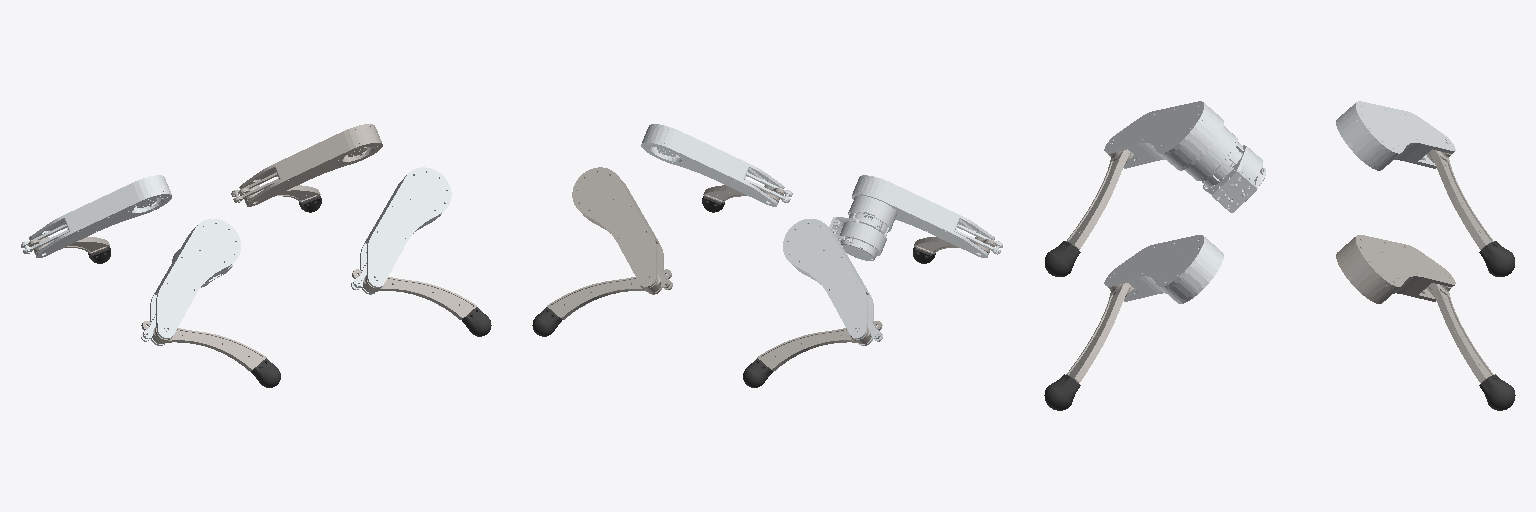
URDF robot description (UIKA):
<robot name="UIKA">
  <link name="base">
    <inertial>
      <origin xyz="0.0993589953258177 -0.000347868138743462 -0.0602742254852854" rpy="0 0 0" />
      <mass value="6.09961854" />
      <inertia ixx="0.02511856" ixy="0.00009160" ixz="-0.00692101" iyy="0.07600646" iyz="-0.00001621" izz="0.08133534 " />
    </inertial>
    <visual>
      <origin xyz="0 0 0" rpy="0 0 0" />
      <geometry>
        <mesh filename="../meshes/base.STL" />
      </geometry>
      <material name="">
        <color rgba="0.898039215686275 0.917647058823529 0.929411764705882 1" />
      </material>
    </visual>
    <collision>
      <origin xyz="0 0 0" rpy="0 0 0" />
      <geometry>
        <mesh filename="../meshes/base.STL" />
      </geometry>
    </collision>
  </link>
  <link name="FL_hip">
    <inertial>
      <origin xyz="0.0415030017853425 0.00817193653082768 0.00860885998023001" rpy="0 0 0" />
      <mass value="0.93308959" />
      <inertia ixx="0.00115759" ixy="-0.00005099" ixz="-0.00006730" iyy="0.00110208" iyz="-0.00014553" izz="0.00110642" />
    </inertial>
    <visual>
      <origin xyz="0 0 0" rpy="0 0 0" />
      <geometry>
        <mesh filename="../meshes/FL_hip.STL" />
      </geometry>
      <material name="">
        <color rgba="0.898039215686275 0.917647058823529 0.929411764705882 1" />
      </material>
    </visual>
    <collision>
      <origin xyz="0 0 0" rpy="0 0 0" />
      <geometry>
        <mesh filename="../meshes/FL_hip.STL" />
      </geometry>
    </collision>
  </link>
  <joint name="FL_hip_joint" type="revolute">
    <origin xyz="0.153000439855044 0.0600003842452415 -0.0600006101205791" rpy="0 0 0" />
    <parent link="base" />
    <child link="FL_hip" />
    <axis xyz="1 0 0" />
    <limit lower="-1.5" upper="0" effort="6" velocity="28.80" />
  </joint>
  <link name="FL_thigh">
    <inertial>
      <origin xyz="-0.0535775244580455 0.0350832915184582 -0.0163587879417473" rpy="0 0 0" />
      <mass value="0.47644935" />
      <inertia ixx="0.00108325" ixy="0.00075484" ixz="-0.00076870" iyy="0.00222936" iyz="0.00047262" izz="0.00221100" />
    </inertial>
    <visual>
      <origin xyz="0 0 0" rpy="0 0 0" />
      <geometry>
        <mesh filename="../meshes/FL_thigh.STL" />
      </geometry>
      <material name="">
        <color rgba="0.776470588235294 0.756862745098039 0.737254901960784 1" />
      </material>
    </visual>
    <collision>
      <origin xyz="0 0 0" rpy="0 0 0" />
      <geometry>
        <mesh filename="../meshes/FL_thigh.STL" />
      </geometry>
    </collision>
  </link>
  <joint name="FL_thigh_joint" type="revolute">
    <origin xyz="0.0560002942624635 0.0483946520428511 0.0470555828957988" rpy="0 0 0" />
    <parent link="FL_hip" />
    <child link="FL_thigh" />
    <axis xyz="0 0.716968137917879 0.697105938298167" />
    <limit lower="-0.785" upper="0.785" effort="6" velocity="28.80" />
  </joint>
  <link name="FL_calf">
    <inertial>
      <origin xyz="0.0700291670932001 -0.015965855611679 -0.00222776798959823" rpy="0 0 0" />
      <mass value="0.14745425" />
      <inertia ixx="0.00002268" ixy="0.00004129" ixz="0.00004247" iyy="0.00073677" iyz="0.00000895" izz="0.00073626" />
    </inertial>
    <visual>
      <origin xyz="0 0 0" rpy="0 0 0" />
      <geometry>
        <mesh filename="../meshes/FL_calf.STL" />
      </geometry>
      <material name="">
        <color rgba="0.776470588235294 0.756862745098039 0.737254901960784 1" />
      </material>
    </visual>
    <collision>
      <origin xyz="0 0 0" rpy="0 0 0" />
      <geometry>
        <mesh filename="../meshes/FL_calf.STL" />
      </geometry>
    </collision>
  </link>
  <joint name="FL_calf_joint" type="revolute">
    <origin xyz="-0.152475747348646 0.109582492974347 -0.07397319848129" rpy="0 0 0" />
    <parent link="FL_thigh" />
    <child link="FL_calf" />
    <axis xyz="0 0.716968137917877 0.69710593829817" />
    <limit lower="0.1" upper="1.11" effort="11.2" velocity="15.43" />
  </joint>
  <link name="FL_foot">
    <inertial>
      <origin xyz="-0.0105383510676763 -0.00443303932993289 0.00455926040185234" rpy="0 0 0" />
      <mass value="0.04697856" />
      <inertia ixx="0.00000818" ixy="0" ixz="0" iyy="0.00000918" iyz="0" izz="0.00000915" />
    </inertial>
    <visual>
      <origin xyz="0 0 0" rpy="0 0 0" />
      <geometry>
        <mesh filename="../meshes/FL_foot.STL" />
      </geometry>
      <material name="">
        <color rgba="0.298039215686275 0.298039215686275 0.298039215686275 1" />
      </material>
    </visual>
    <collision>
      <origin xyz="0 0 0" rpy="0 0 0" />
      <geometry>
        <mesh filename="../meshes/FL_foot.STL" />
      </geometry>
    </collision>
  </link>
  <joint name="FL_foot_joint" type="fixed">
    <origin xyz="0.211725899509592 -0.00252783551179853 -0.0167659233263265" rpy="0 0 0" />
    <parent link="FL_calf" />
    <child link="FL_foot" />
    <axis xyz="0 0 0" />
  </joint>
  <link name="FR_hip">
    <inertial>
      <origin xyz="0.0416078227711511 -0.0104146438294053 0.0101964785626593" rpy="0 0 0" />
      <mass value="0.93308959" />
      <inertia ixx="0.00114451" ixy="0.00003806" ixz="-0.00003484" iyy="0.00106757" iyz="0.00013340" izz="0.00112221" />
    </inertial>
    <visual>
      <origin xyz="0 0 0" rpy="0 0 0" />
      <geometry>
        <mesh filename="../meshes/FR_hip.STL" />
      </geometry>
      <material name="">
        <color rgba="0.898039215686275 0.917647058823529 0.929411764705882 1" />
      </material>
    </visual>
    <collision>
      <origin xyz="0 0 0" rpy="0 0 0" />
      <geometry>
        <mesh filename="../meshes/FR_hip.STL" />
      </geometry>
    </collision>
  </link>
  <joint name="FR_hip_joint" type="revolute">
    <origin xyz="0.153000425358075 -0.0600004472669823 -0.0600003113075975" rpy="0 0 0" />
    <parent link="base" />
    <child link="FR_hip" />
    <axis xyz="1 0 0" />
    <limit lower="0" upper="1.5" effort="6" velocity="28.80" />
  </joint>
  <link name="FR_thigh">
    <inertial>
      <origin xyz="-0.0547142990756392 -0.0356584537936173 -0.0169064776984609" rpy="0 0 0" />
      <mass value="0.48074554" />
      <inertia ixx="0.00111780" ixy="-0.00079086" ixz="-0.00080310" iyy="0.00231794" iyz="-0.00048974" izz="0.00230119" />
    </inertial>
    <visual>
      <origin xyz="0 0 0" rpy="0 0 0" />
      <geometry>
        <mesh filename="../meshes/FR_thigh.STL" />
      </geometry>
      <material name="">
        <color rgba="0.898039215686275 0.917647058823529 0.929411764705882 1" />
      </material>
    </visual>
    <collision>
      <origin xyz="0 0 0" rpy="0 0 0" />
      <geometry>
        <mesh filename="../meshes/FR_thigh.STL" />
      </geometry>
    </collision>
  </link>
  <joint name="FR_thigh_joint" type="revolute">
    <origin xyz="0.0560001425520644 -0.0483952686957443 0.047054585042635" rpy="0 0 0" />
    <parent link="FR_hip" />
    <child link="FR_thigh" />
    <axis xyz="0 -0.716968137917902 0.697105938298144" />
    <limit lower="-0.785" upper="0.785" effort="6" velocity="28.80" />
  </joint>
  <link name="FR_calf">
    <inertial>
      <origin xyz="0.0700291670951076 0.0159658555227684 -0.0022277679039307" rpy="0 0 0" />
      <mass value="0.14745425" />
      <inertia ixx="0.00002268" ixy="-0.00004129" ixz="-0.00004247" iyy="0.00073677" iyz="-0.00000895" izz="0.00073626" />
    </inertial>
    <visual>
      <origin xyz="0 0 0" rpy="0 0 0" />
      <geometry>
        <mesh filename="../meshes/FR_calf.STL" />
      </geometry>
      <material name="">
        <color rgba="0.776470588235294 0.756862745098039 0.737254901960784 1" />
      </material>
    </visual>
    <collision>
      <origin xyz="0 0 0" rpy="0 0 0" />
      <geometry>
        <mesh filename="../meshes/FR_calf.STL" />
      </geometry>
    </collision>
  </link>
  <joint name="FR_calf_joint" type="revolute">
    <origin xyz="-0.152475581141278 -0.109581813299707 -0.0739724994411187" rpy="0 0 0" />
    <parent link="FR_thigh" />
    <child link="FR_calf" />
    <axis xyz="0 -0.716968137917903 0.697105938298144" />
    <limit lower="-1.11" upper="-0.1" effort="11.2" velocity="15.43" />
  </joint>
  <link name="FR_foot">
    <inertial>
      <origin xyz="-0.0105383478998533 0.0044329513755467 0.00455934568546953" rpy="0 0 0" />
      <mass value="0.04697856" />
      <inertia ixx="0.00000818" ixy="0" ixz="0" iyy="0.00000918" iyz="0" izz="0.00000915" />
    </inertial>
    <visual>
      <origin xyz="0 0 0" rpy="0 0 0" />
      <geometry>
        <mesh filename="../meshes/FR_foot.STL" />
      </geometry>
      <material name="">
        <color rgba="0.298039215686275 0.298039215686275 0.298039215686275 1" />
      </material>
    </visual>
    <collision>
      <origin xyz="0 0 0" rpy="0 0 0" />
      <geometry>
        <mesh filename="../meshes/FR_foot.STL" />
      </geometry>
    </collision>
  </link>
  <joint name="FR_foot_joint" type="fixed">
    <origin xyz="0.211725899509592 0.00252783231169756 -0.0167659202148746" rpy="0 0 0" />
    <parent link="FR_calf" />
    <child link="FR_foot" />
    <axis xyz="0 0 0" />
  </joint>
  <link name="RL_hip">
    <inertial>
      <origin xyz="-0.0415758519890377 0.0101366668291682 0.0104818480714982" rpy="0 0 0" />
      <mass value="0.93308959" />
      <inertia ixx="0.00113963" ixy="0.00003148" ixz="0.00002966" iyy="0.00109432" iyz="-0.00013659" izz="0.00109594" />
    </inertial>
    <visual>
      <origin xyz="0 0 0" rpy="0 0 0" />
      <geometry>
        <mesh filename="../meshes/RL_hip.STL" />
      </geometry>
      <material name="">
        <color rgba="0.898039215686275 0.917647058823529 0.929411764705882 1" />
      </material>
    </visual>
    <collision>
      <origin xyz="0 0 0" rpy="0 0 0" />
      <geometry>
        <mesh filename="../meshes/RL_hip.STL" />
      </geometry>
    </collision>
  </link>
  <joint name="RL_hip_joint" type="revolute">
    <origin xyz="-0.152999574641922 0.0600000459667993 -0.0599994570016295" rpy="0 0 0" />
    <parent link="base" />
    <child link="RL_hip" />
    <axis xyz="-1 0 0" />
    <limit lower="0" upper="1.5" effort="6" velocity="28.80" />
  </joint>
  <link name="RL_thigh">
    <inertial>
      <origin xyz="-0.0547144667121707 0.0356782468970246 -0.0168886153666892" rpy="0 0 0" />
      <mass value="0.48074554" />
      <inertia ixx="0.00111780" ixy="0.00079200" ixz="-0.00080199" iyy="0.00231683" iyz="0.00048977" izz="0.00230230" />
    </inertial>
    <visual>
      <origin xyz="0 0 0" rpy="0 0 0" />
      <geometry>
        <mesh filename="../meshes/RL_thigh.STL" />
      </geometry>
      <material name="">
        <color rgba="0.898039215686275 0.917647058823529 0.929411764705882 1" />
      </material>
    </visual>
    <collision>
      <origin xyz="0 0 0" rpy="0 0 0" />
      <geometry>
        <mesh filename="../meshes/RL_thigh.STL" />
      </geometry>
    </collision>
  </link>
  <joint name="RL_thigh_joint" type="revolute">
    <origin xyz="-0.0559996912405691 0.0483949903212994 0.0470544297768458" rpy="0 0 0" />
    <parent link="RL_hip" />
    <child link="RL_thigh" />
    <axis xyz="0 0.716968137917878 0.697105938298169" />
    <limit lower="-0.785" upper="0.785" effort="6" velocity="28.80" />
  </joint>
  <link name="RL_calf">
    <inertial>
      <origin xyz="0.0700291670931948 -0.0159658556116849 -0.00222776798959213" rpy="0 0 0" />
      <mass value="0.14745425" />
      <inertia ixx="0.00002268" ixy="0.00004129" ixz="-0.00004247" iyy="0.00073677" iyz="0.00000895" izz="0.00073626" />
    </inertial>
    <visual>
      <origin xyz="0 0 0" rpy="0 0 0" />
      <geometry>
        <mesh filename="../meshes/RL_calf.STL" />
      </geometry>
      <material name="">
        <color rgba="0.776470588235294 0.756862745098039 0.737254901960784 1" />
      </material>
    </visual>
    <collision>
      <origin xyz="0 0 0" rpy="0 0 0" />
      <geometry>
        <mesh filename="../meshes/RL_calf.STL" />
      </geometry>
    </collision>
  </link>
  <joint name="RL_calf_joint" type="revolute">
    <origin xyz="-0.152475747348643 0.109582492974347 -0.0739731984812923" rpy="0 0 0" />
    <parent link="RL_thigh" />
    <child link="RL_calf" />
    <axis xyz="0 0.716968137917874 0.697105938298173" />
    <limit lower="0.1" upper="1.11" effort="11.2" velocity="15.43" />
  </joint>
  <link name="RL_foot">
    <inertial>
      <origin xyz="-0.0105383510676786 -0.00443303932993727 0.0045592604018532" rpy="0 0 0" />
      <mass value="0.04697856" />
      <inertia ixx="0.00000818" ixy="0" ixz="0" iyy="0.00000918" iyz="0" izz="0.00000915" />
    </inertial>
    <visual>
      <origin xyz="0 0 0" rpy="0 0 0" />
      <geometry>
        <mesh filename="../meshes/RL_foot.STL" />
      </geometry>
      <material name="">
        <color rgba="0.298039215686275 0.298039215686275 0.298039215686275 1" />
      </material>
    </visual>
    <collision>
      <origin xyz="0 0 0" rpy="0 0 0" />
      <geometry>
        <mesh filename="../meshes/RL_foot.STL" />
      </geometry>
    </collision>
  </link>
  <joint name="RL_foot_joint" type="fixed">
    <origin xyz="0.211725899509589 -0.00252783551179986 -0.0167659233263231" rpy="0 0 0" />
    <parent link="RL_calf" />
    <child link="RL_foot" />
    <axis xyz="0 0 0" />
  </joint>
  <link name="RR_hip">
    <inertial>
      <origin xyz="-0.0416445343568521 -0.010769761078396 0.00983207310486511" rpy="0 0 0" />
      <mass value="0.93308959" />
      <inertia ixx="0.00114349" ixy="-0.00003539" ixz="0.00003214" iyy="0.00108600" iyz="0.00013445" izz="0.00110242" />
    </inertial>
    <visual>
      <origin xyz="0 0 0" rpy="0 0 0" />
      <geometry>
        <mesh filename="../meshes/RR_hip.STL" />
      </geometry>
      <material name="">
        <color rgba="0.898039215686275 0.917647058823529 0.929411764705882 1" />
      </material>
    </visual>
    <collision>
      <origin xyz="0 0 0" rpy="0 0 0" />
      <geometry>
        <mesh filename="../meshes/RR_hip.STL" />
      </geometry>
    </collision>
  </link>
  <joint name="RR_hip_joint" type="revolute">
    <origin xyz="-0.152999574641922 -0.0599994732330435 -0.0600001395591401" rpy="0 0 0" />
    <parent link="base" />
    <child link="RR_hip" />
    <axis xyz="-1 0 0" />
    <limit lower="-1.5" upper="0" effort="6" velocity="28.80" />
  </joint>
  <link name="RR_thigh">
    <inertial>
      <origin xyz="-0.0547143122112738 -0.0356584597048889 -0.0169064837781644" rpy="0 0 0" />
      <mass value="0.48074554" />
      <inertia ixx="0.00111780" ixy="-0.00079085" ixz="-0.00080310" iyy="0.00231794" iyz="-0.00048974" izz="0.00230119" />
    </inertial>
    <visual>
      <origin xyz="0 0 0" rpy="0 0 0" />
      <geometry>
        <mesh filename="../meshes/RR_thigh.STL" />
      </geometry>
      <material name="">
        <color rgba="0.898039215686275 0.917647058823529 0.929411764705882 1" />
      </material>
    </visual>
    <collision>
      <origin xyz="0 0 0" rpy="0 0 0" />
      <geometry>
        <mesh filename="../meshes/RR_thigh.STL" />
      </geometry>
    </collision>
  </link>
  <joint name="RR_thigh_joint" type="revolute">
    <origin xyz="-0.0559998574479382 -0.0483962427296829 0.0470544132941808" rpy="0 0 0" />
    <parent link="RR_hip" />
    <child link="RR_thigh" />
    <axis xyz="0 -0.716968137917902 0.697105938298144" />
    <limit lower="-0.785" upper="0.785" effort="6" velocity="28.80" />
  </joint>
  <link name="RR_calf">
    <inertial>
      <origin xyz="0.0700291670951063 0.0159658555227615 -0.0022277679039392" rpy="0 0 0" />
      <mass value="0.14745425" />
      <inertia ixx=" 0.00002268" ixy="-0.00004129" ixz="-0.00004247" iyy="0.00073677" iyz="-0.00000895" izz="0.00073626" />
    </inertial>
    <visual>
      <origin xyz="0 0 0" rpy="0 0 0" />
      <geometry>
        <mesh filename="../meshes/RR_calf.STL" />
      </geometry>
      <material name="">
        <color rgba="0.776470588235294 0.756862745098039 0.737254901960784 1" />
      </material>
    </visual>
    <collision>
      <origin xyz="0 0 0" rpy="0 0 0" />
      <geometry>
        <mesh filename="../meshes/RR_calf.STL" />
      </geometry>
    </collision>
  </link>
  <joint name="RR_calf_joint" type="revolute">
    <origin xyz="-0.152475581141278 -0.109581813299707 -0.0739724994411164" rpy="0 0 0" />
    <parent link="RR_thigh" />
    <child link="RR_calf" />
    <axis xyz="0 -0.716968137917903 0.697105938298143" />
    <limit lower="-1.11" upper="-0.1" effort="11.2" velocity="15.43" />
  </joint>
  <link name="RR_foot">
    <inertial>
      <origin xyz="-0.0105383478998522 0.00443295137554656 0.00455934568547118" rpy="0 0 0" />
      <mass value="0.04697856" />
      <inertia ixx="0.00000818" ixy="0" ixz="0" iyy="0.00000918" iyz="0" izz="0.00000915" />
    </inertial>
    <visual>
      <origin xyz="0 0 0" rpy="0 0 0" />
      <geometry>
        <mesh filename="../meshes/RR_foot.STL" />
      </geometry>
      <material name="">
        <color rgba="0.298039215686275 0.298039215686275 0.298039215686275 1" />
      </material>
    </visual>
    <collision>
      <origin xyz="0 0 0" rpy="0 0 0" />
      <geometry>
        <mesh filename="../meshes/RR_foot.STL" />
      </geometry>
    </collision>
  </link>
  <joint name="RR_foot_joint" type="fixed">
    <origin xyz="0.211725899509593 0.00252783231169423 -0.0167659202148782" rpy="0 0 0" />
    <parent link="RR_calf" />
    <child link="RR_foot" />
    <axis xyz="0 0 0" />
  </joint>
</robot>

--- Facts derived from the render (not from the file) ---
Views: 3 orthographic renders of the robot side by side, from view 1: azimuth 30°, elevation 25°; view 2: azimuth 150°, elevation 25°; view 3: azimuth 270°, elevation 25°.
Robot: UIKA — 17 links, 16 joints (12 revolute, 4 fixed); root link base; default pose: joints at zero except 4 at the middle of their limits (FL_calf_joint = 0.605, FR_calf_joint = -0.605, RL_calf_joint = 0.605, RR_calf_joint = -0.605).
Visible links, largest first — view 1: FR_thigh, RR_thigh, RL_thigh, FL_thigh, RR_calf, FR_calf, RL_calf, FL_calf, RR_foot, FR_foot; view 2: FL_thigh, RL_thigh, FR_thigh, RR_thigh, RR_hip, RL_calf, FL_calf, RR_calf, FR_calf, RL_foot, FL_foot; view 3: RL_thigh, RR_thigh, FL_thigh, FR_thigh, RR_hip, RL_calf, RR_calf, FL_calf, FR_calf, FL_foot, RL_foot, RR_foot (+1 smaller).
Link boxes in pixels (x1=…): FR_thigh: x1=351, y1=167, x2=451, y2=294; RR_thigh: x1=141, y1=219, x2=240, y2=345; RL_thigh: x1=21, y1=175, x2=171, y2=257; FL_thigh: x1=231, y1=124, x2=382, y2=206; RR_calf: x1=141, y1=321, x2=266, y2=371; FR_calf: x1=352, y1=269, x2=476, y2=319; RL_calf: x1=28, y1=237, x2=109, y2=253; FL_calf: x1=239, y1=185, x2=320, y2=202; RR_foot: x1=251, y1=358, x2=280, y2=387; FR_foot: x1=462, y1=307, x2=491, y2=336; FL_thigh: x1=572, y1=167, x2=672, y2=294; RL_thigh: x1=783, y1=219, x2=882, y2=345; FR_thigh: x1=641, y1=124, x2=792, y2=206; RR_thigh: x1=852, y1=175, x2=1002, y2=257; RR_hip: x1=829, y1=196, x2=896, y2=260; RL_calf: x1=757, y1=321, x2=882, y2=371; FL_calf: x1=547, y1=269, x2=671, y2=319; RR_calf: x1=914, y1=237, x2=995, y2=253; FR_calf: x1=703, y1=185, x2=784, y2=202; RL_foot: x1=743, y1=358, x2=772, y2=387; FL_foot: x1=532, y1=307, x2=561, y2=336; RL_thigh: x1=1336, y1=101, x2=1455, y2=170; RR_thigh: x1=1104, y1=101, x2=1223, y2=170; FL_thigh: x1=1336, y1=235, x2=1455, y2=303; FR_thigh: x1=1104, y1=235, x2=1223, y2=303; RR_hip: x1=1185, y1=126, x2=1265, y2=212; RL_calf: x1=1426, y1=149, x2=1493, y2=249; RR_calf: x1=1066, y1=149, x2=1133, y2=249; FL_calf: x1=1426, y1=283, x2=1493, y2=382; FR_calf: x1=1066, y1=283, x2=1133, y2=382; FL_foot: x1=1479, y1=374, x2=1515, y2=410; RL_foot: x1=1479, y1=241, x2=1514, y2=276; RR_foot: x1=1045, y1=241, x2=1080, y2=276.
Bounding box of the posed robot: 0.6541 × 0.6235 × 0.2438 m (x, y, z).
13 mesh visuals loaded from 17 distinct referenced files (13 binary STL); not drawn: 4 (reference not matched to a file when rendering).
